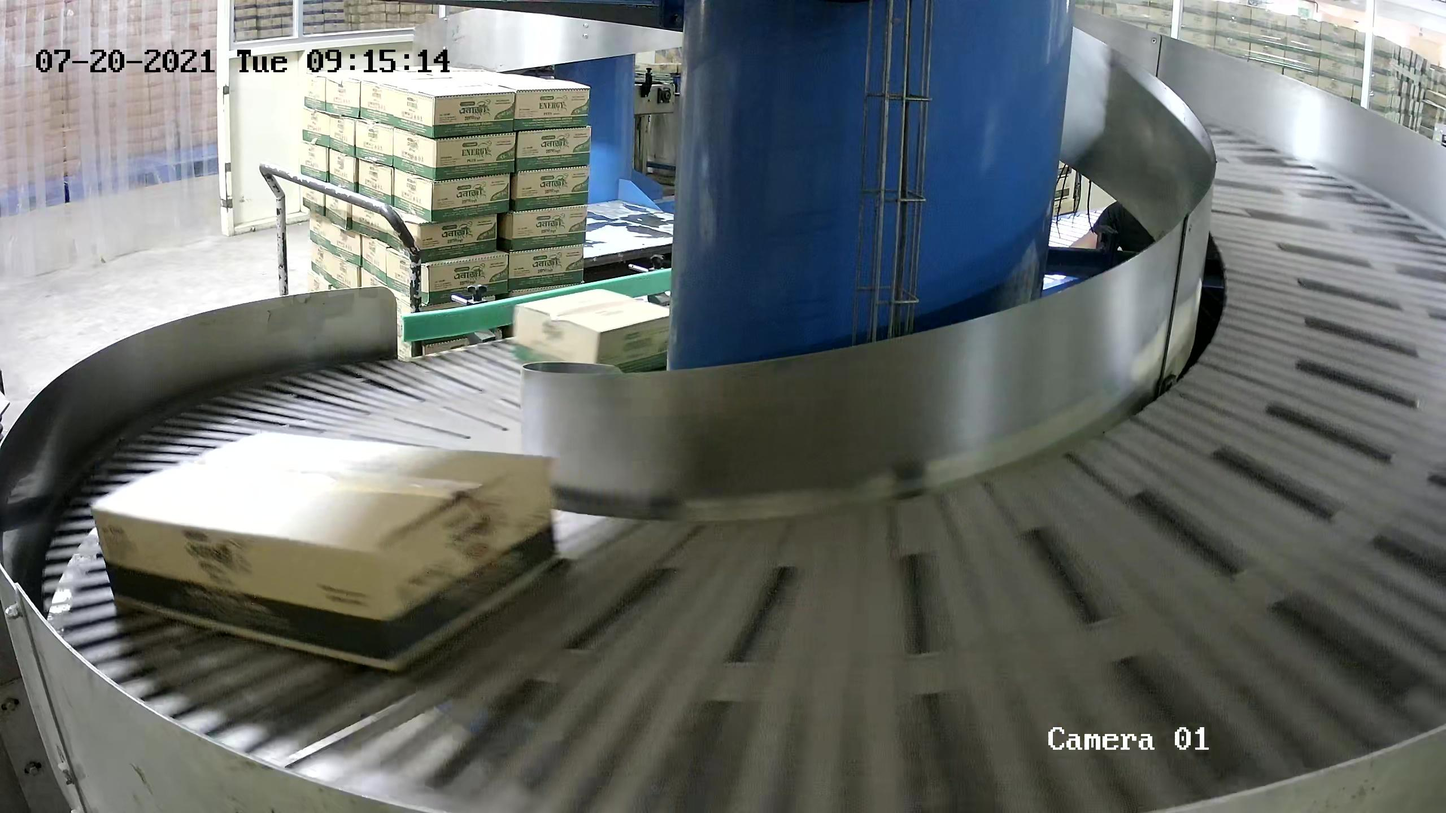Box: (91, 427, 563, 674), (512, 287, 670, 372)
